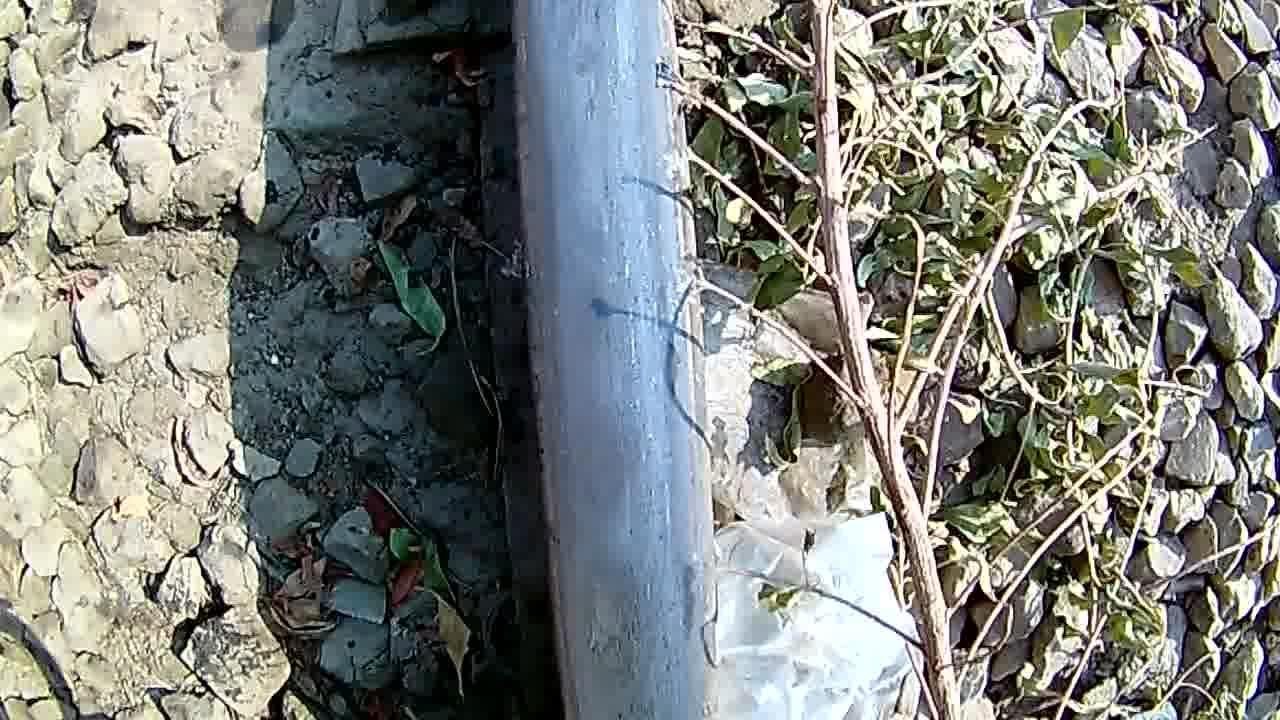crack: (516, 9, 682, 720)
